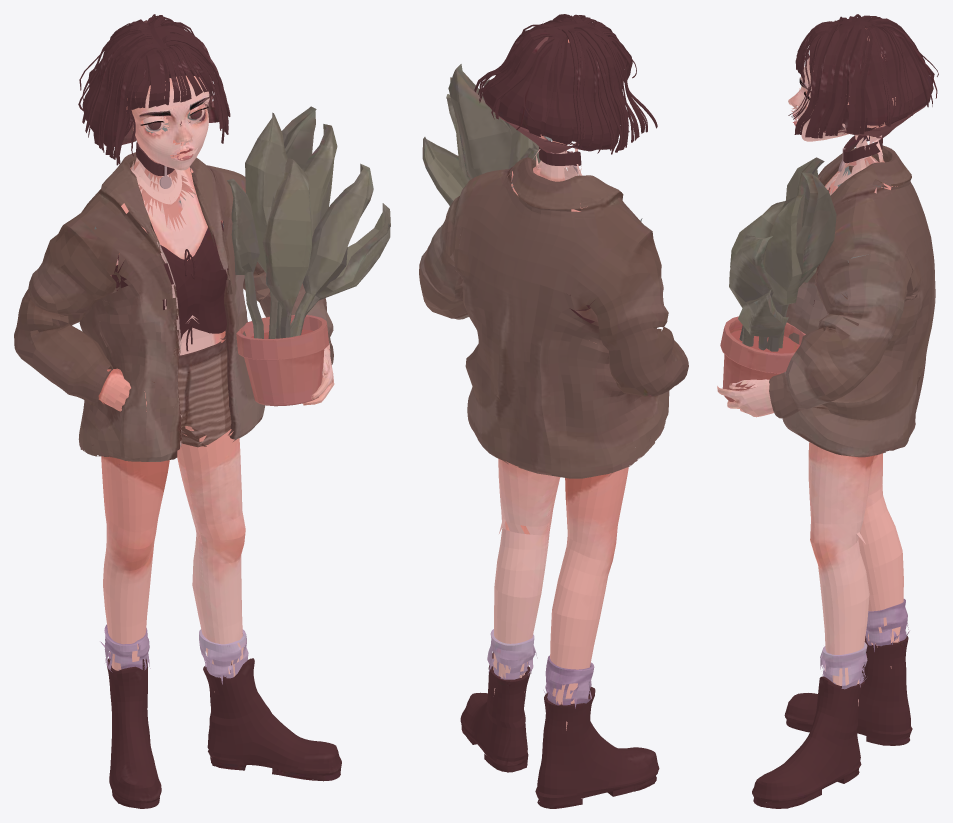
The model's file is matilda.glb.
3 views of the same model, side by side, from view 1: azimuth 30°, elevation 25°; view 2: azimuth 150°, elevation 25°; view 3: azimuth 270°, elevation 25° (orthographic). The views are drawn at different scales.
Visible parts, largest first — view 1: polySurface80_surfaceShader1_0, polySurface74_surfaceShader1_0, polySurface87_surfaceShader1_0, polySurface67_surfaceShader1_0, polySurface86_surfaceShader1_0, polySurface66_surfaceShader1_0, polySurface75_surfaceShader1_0, polySurface68_surfaceShader1_0, polySurface76_surfaceShader1_0, polySurface85_surfaceShader1_0, polySurface69_surfaceShader1_0, hairStrands_v2:polySurface28_surfaceShader1_0 (+7 smaller); view 2: polySurface80_surfaceShader1_0, polySurface74_surfaceShader1_0, hairStrands_v2:polySurface28_surfaceShader1_0, polySurface86_surfaceShader1_0, polySurface87_surfaceShader1_0, polySurface102_surfaceShader1_0, polySurface62_surfaceShader1_0, polySurface77_surfaceShader1_0, polySurface78_surfaceShader1_0, polySurface69_surfaceShader1_0, polySurface60_surfaceShader1_0, polySurface37_surfaceShader1_0 (+1 smaller); view 3: polySurface80_surfaceShader1_0, polySurface74_surfaceShader1_0, polySurface87_surfaceShader1_0, polySurface86_surfaceShader1_0, hairStrands_v2:polySurface28_surfaceShader1_0, polySurface67_surfaceShader1_0, polySurface72_surfaceShader1_0, polySurface102_surfaceShader1_0, polySurface68_surfaceShader1_0, polySurface62_surfaceShader1_0, hairStrands_v2:polySurface8_surfaceShader1_0, polySurface77_surfaceShader1_0 (+15 smaller).
Part boxes in pixels (x1,y1,x2,y2): polySurface80_surfaceShader1_0: [14, 152, 333, 461]; polySurface74_surfaceShader1_0: [94, 123, 245, 692]; polySurface87_surfaceShader1_0: [203, 658, 341, 781]; polySurface67_surfaceShader1_0: [236, 315, 328, 406]; polySurface86_surfaceShader1_0: [107, 658, 161, 808]; polySurface66_surfaceShader1_0: [262, 158, 311, 338]; polySurface75_surfaceShader1_0: [145, 330, 231, 447]; polySurface68_surfaceShader1_0: [290, 163, 373, 336]; polySurface76_surfaceShader1_0: [111, 221, 228, 340]; polySurface85_surfaceShader1_0: [126, 75, 209, 170]; polySurface69_surfaceShader1_0: [245, 112, 287, 338]; hairStrands_v2:polySurface28_surfaceShader1_0: [82, 19, 219, 146]; polySurface80_surfaceShader1_0: [419, 157, 688, 478]; polySurface74_surfaceShader1_0: [493, 134, 642, 730]; hairStrands_v2:polySurface28_surfaceShader1_0: [482, 17, 624, 153]; polySurface86_surfaceShader1_0: [535, 687, 659, 808]; polySurface87_surfaceShader1_0: [460, 652, 530, 772]; polySurface102_surfaceShader1_0: [448, 64, 512, 179]; polySurface62_surfaceShader1_0: [422, 137, 467, 205]; polySurface77_surfaceShader1_0: [543, 655, 594, 708]; polySurface78_surfaceShader1_0: [487, 629, 537, 679]; polySurface69_surfaceShader1_0: [483, 79, 533, 168]; polySurface60_surfaceShader1_0: [539, 147, 581, 165]; polySurface37_surfaceShader1_0: [580, 27, 628, 150]; polySurface80_surfaceShader1_0: [769, 145, 935, 457]; polySurface74_surfaceShader1_0: [808, 123, 903, 705]; polySurface87_surfaceShader1_0: [752, 676, 864, 808]; polySurface86_surfaceShader1_0: [784, 636, 912, 745]; hairStrands_v2:polySurface28_surfaceShader1_0: [809, 17, 933, 138]; polySurface67_surfaceShader1_0: [720, 316, 805, 401]; polySurface72_surfaceShader1_0: [764, 194, 804, 351]; polySurface102_surfaceShader1_0: [767, 172, 836, 349]; polySurface68_surfaceShader1_0: [729, 235, 773, 346]; polySurface62_surfaceShader1_0: [738, 289, 788, 350]; hairStrands_v2:polySurface8_surfaceShader1_0: [717, 379, 773, 417]; polySurface77_surfaceShader1_0: [865, 599, 909, 651].
Bounding box in the file's own units: 0.8663 × 2 × 0.5562.
1 material, 1 textured.
